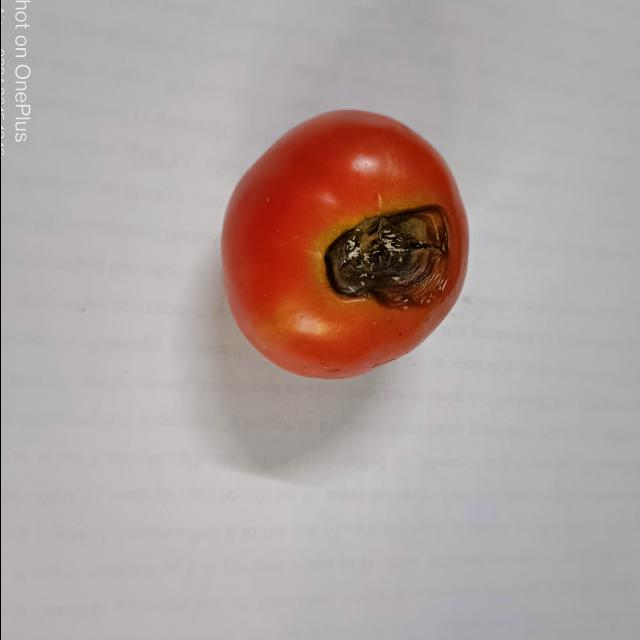Anthrocnose: (322, 202, 460, 312)
